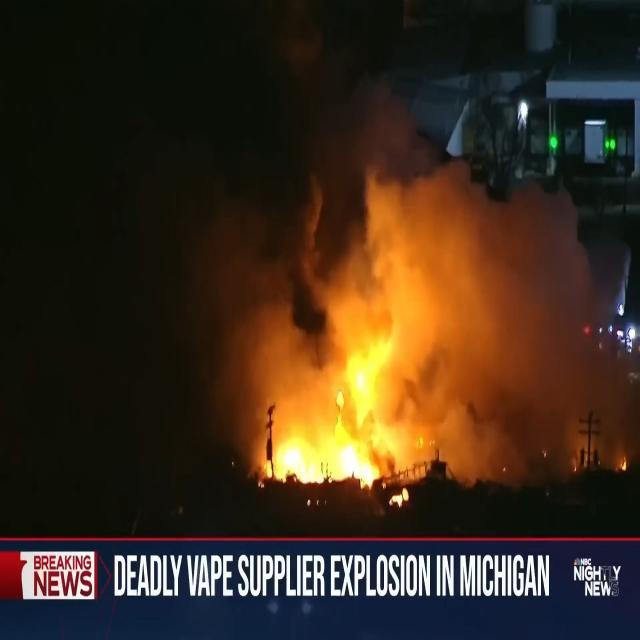fire: (208, 85, 602, 508)
